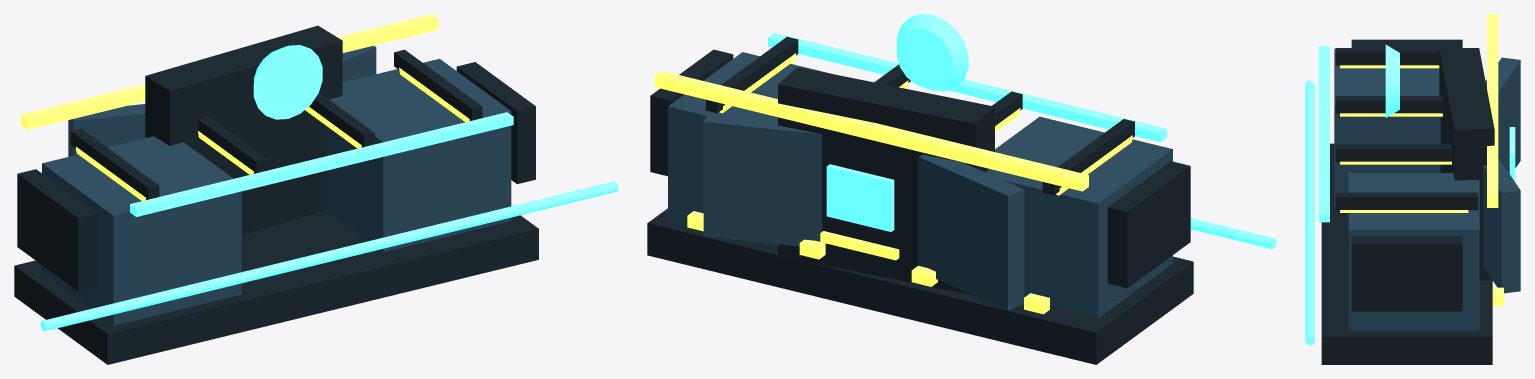
File: cover-barricade-kit.glb
3 renders of one model, left to right at view 1: azimuth 30°, elevation 25°; view 2: azimuth 150°, elevation 25°; view 3: azimuth 270°, elevation 25°, orthographic. The views are drawn at different scales.
Parts seen in each view (by area): view 1: armored-cover-base, right-weighted-crate, left-weighted-crate, center-armor-slab, left-side-service-panel, rear-cyan-status-rail, low-profile-sensor-dish, front-hazard-rail, rear-service-pipe-1, right-side-service-panel, rear-service-pipe-3, angled-front-deflector-left (+8 smaller); view 2: armored-cover-base, center-armor-slab, left-weighted-crate, angled-front-deflector-right, angled-front-deflector-left, front-hazard-rail, left-side-service-panel, right-weighted-crate, low-profile-sensor-dish, rear-cyan-status-rail, recessed-blue-status-screen, right-side-service-panel (+5 smaller); view 3: armored-cover-base, right-weighted-crate, right-side-service-panel, left-weighted-crate, center-armor-slab, angled-front-deflector-right, top-rib-4, angled-front-deflector-left, rear-cyan-status-rail, top-rib-3, front-hazard-rail, top-rib-2 (+12 smaller).
Boxes of the visible parts, <box> form: armored-cover-base: <box>14,210,538,364</box>; right-weighted-crate: <box>326,58,511,252</box>; left-weighted-crate: <box>42,136,241,325</box>; center-armor-slab: <box>145,25,342,234</box>; left-side-service-panel: <box>17,169,96,291</box>; rear-cyan-status-rail: <box>130,112,513,216</box>; low-profile-sensor-dish: <box>253,45,322,119</box>; front-hazard-rail: <box>21,14,438,129</box>; rear-service-pipe-1: <box>40,239,389,331</box>; right-side-service-panel: <box>456,62,535,184</box>; rear-service-pipe-3: <box>272,181,618,268</box>; angled-front-deflector-left: <box>68,104,145,156</box>; armored-cover-base: <box>647,208,1193,364</box>; center-armor-slab: <box>778,67,994,294</box>; left-weighted-crate: <box>985,116,1172,317</box>; angled-front-deflector-right: <box>703,112,822,246</box>; angled-front-deflector-left: <box>918,154,1024,310</box>; front-hazard-rail: <box>654,70,1088,191</box>; left-side-service-panel: <box>1107,161,1190,288</box>; right-weighted-crate: <box>668,52,831,247</box>; low-profile-sensor-dish: <box>896,14,968,91</box>; rear-cyan-status-rail: <box>768,33,1166,142</box>; recessed-blue-status-screen: <box>826,164,894,231</box>; right-side-service-panel: <box>650,49,733,176</box>; armored-cover-base: <box>1321,143,1492,364</box>; right-weighted-crate: <box>1348,173,1479,330</box>; right-side-service-panel: <box>1351,236,1462,311</box>; left-weighted-crate: <box>1334,48,1440,206</box>; center-armor-slab: <box>1439,48,1494,280</box>; angled-front-deflector-right: <box>1483,158,1520,293</box>; top-rib-4: <box>1335,192,1478,210</box>; angled-front-deflector-left: <box>1485,57,1520,173</box>; rear-cyan-status-rail: <box>1318,46,1329,222</box>; top-rib-3: <box>1335,144,1451,161</box>; front-hazard-rail: <box>1487,14,1498,207</box>; top-rib-2: <box>1335,96,1442,113</box>.
Size of the model in its own units: 4.25 by 1.71 by 1.51.
